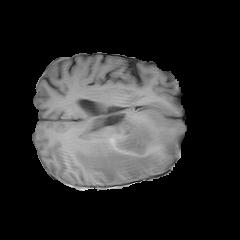glioma: (72, 116, 162, 184)
